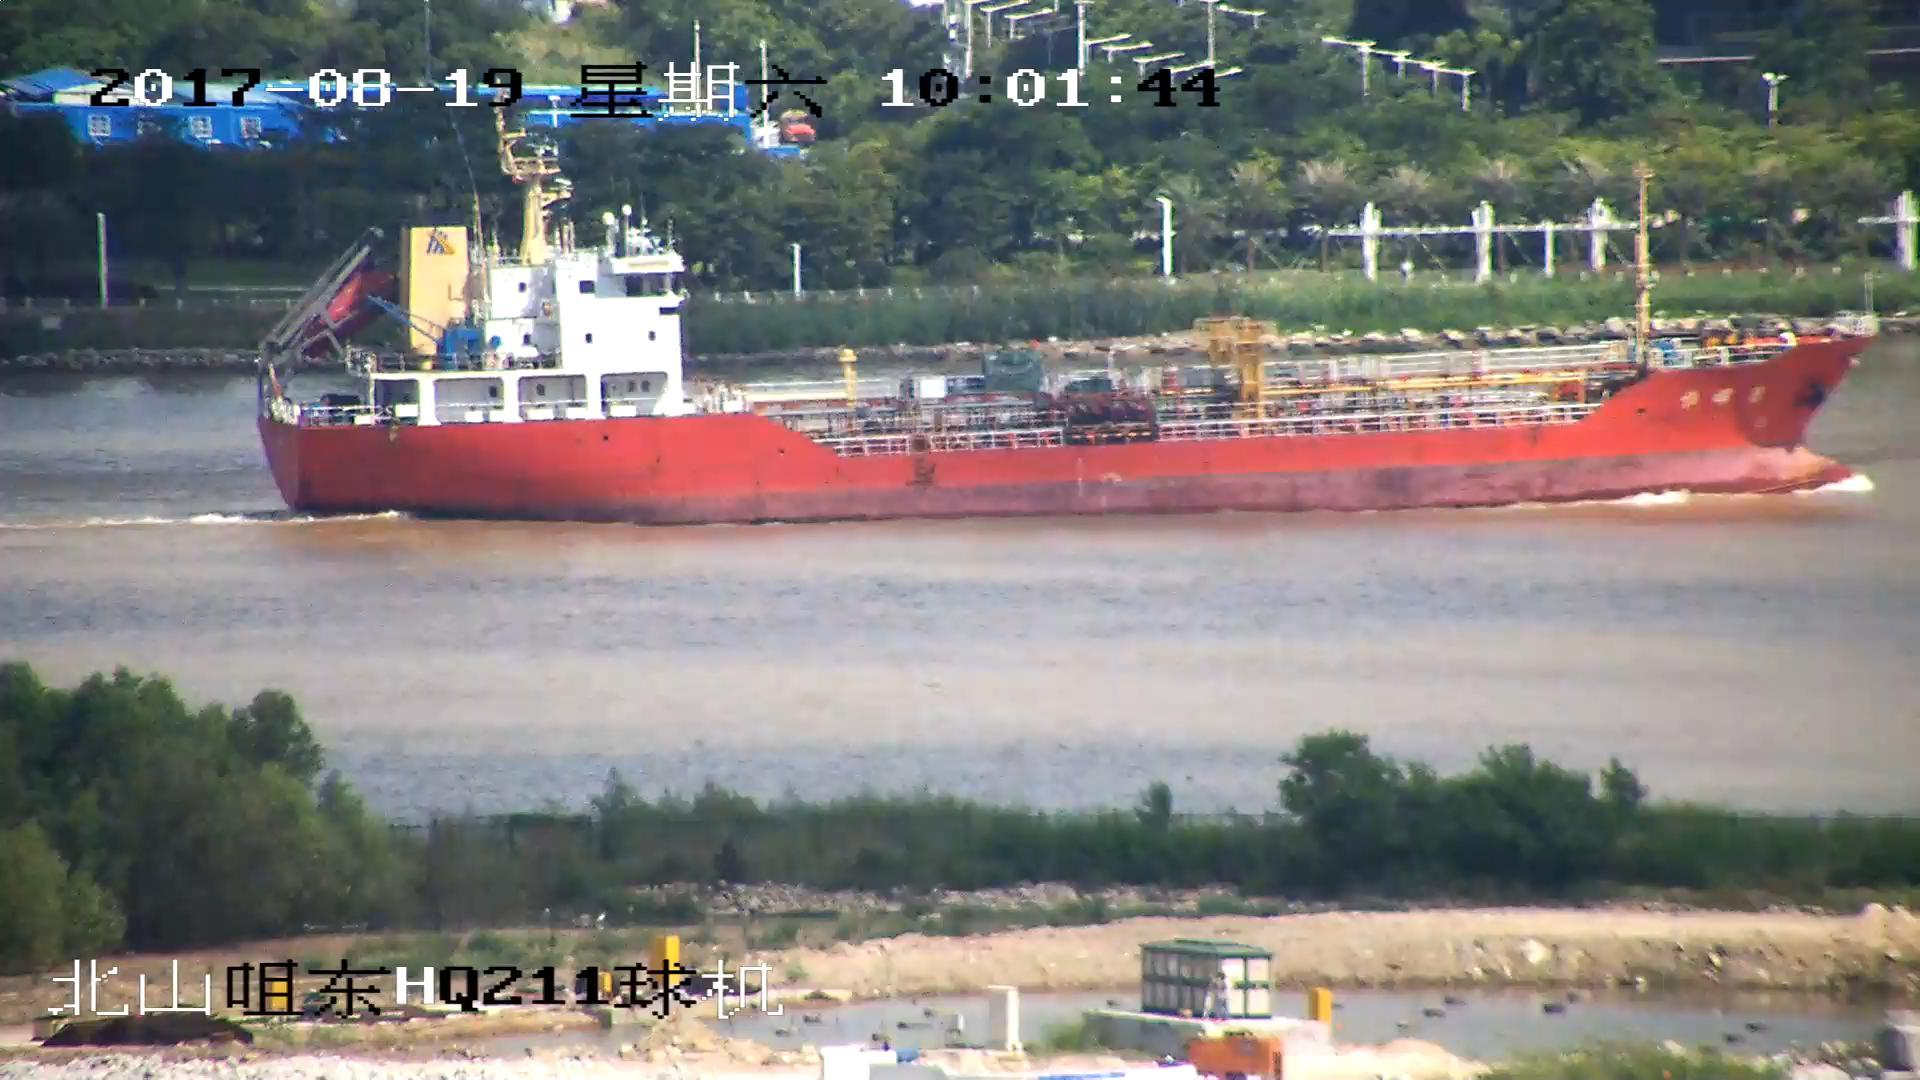Ship: (255, 123, 1875, 531)
